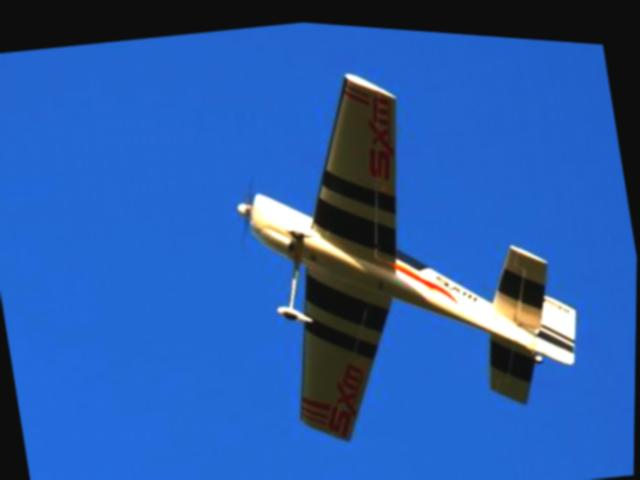uav: (205, 19, 603, 471)
